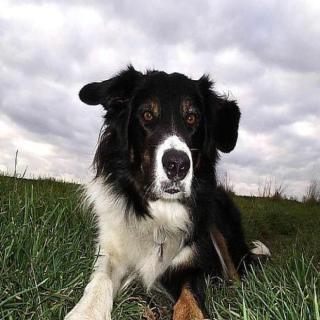dog: (77, 48, 250, 218)
nose: (158, 144, 195, 185)
